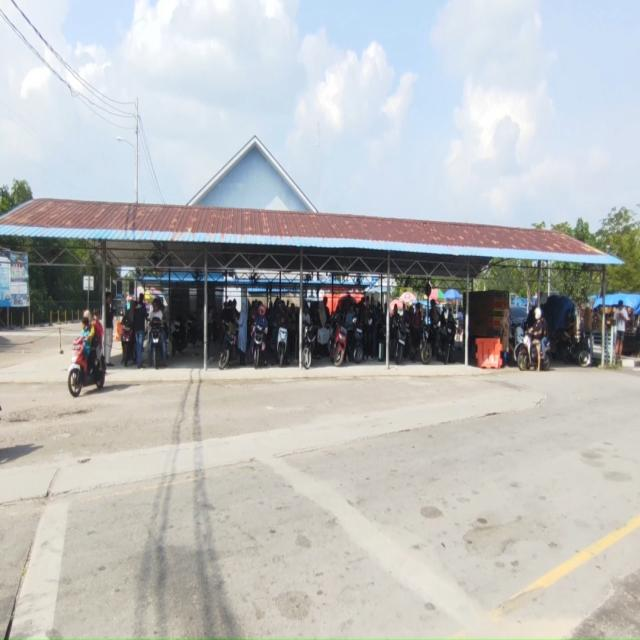Golongan II: (68, 337, 106, 398), (516, 332, 551, 371), (554, 334, 591, 367), (436, 318, 456, 364), (329, 316, 347, 366), (219, 321, 237, 370), (148, 319, 164, 369), (393, 316, 409, 365), (302, 324, 318, 369), (121, 318, 135, 367), (252, 325, 266, 369), (351, 317, 364, 364), (171, 318, 187, 356), (419, 322, 432, 364), (276, 326, 288, 367), (186, 316, 202, 346)
